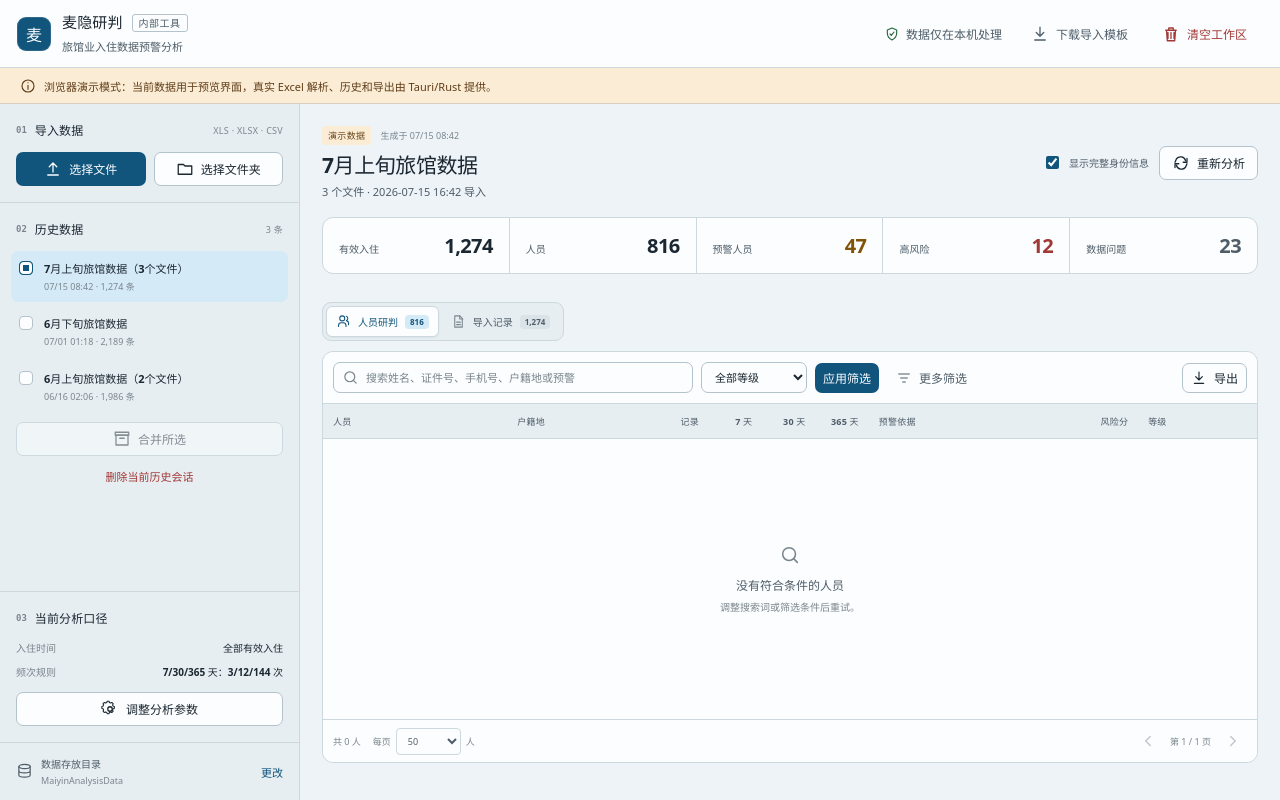
Scenario: App › changes page sizes and keeps frequency columns compact
Expected: the heading "7月上旬旅馆数据" is shown, [322, 152, 486, 178]
Select "100" in the dropdown named "人员每页数量" at [428, 741], box [396, 728, 461, 755]
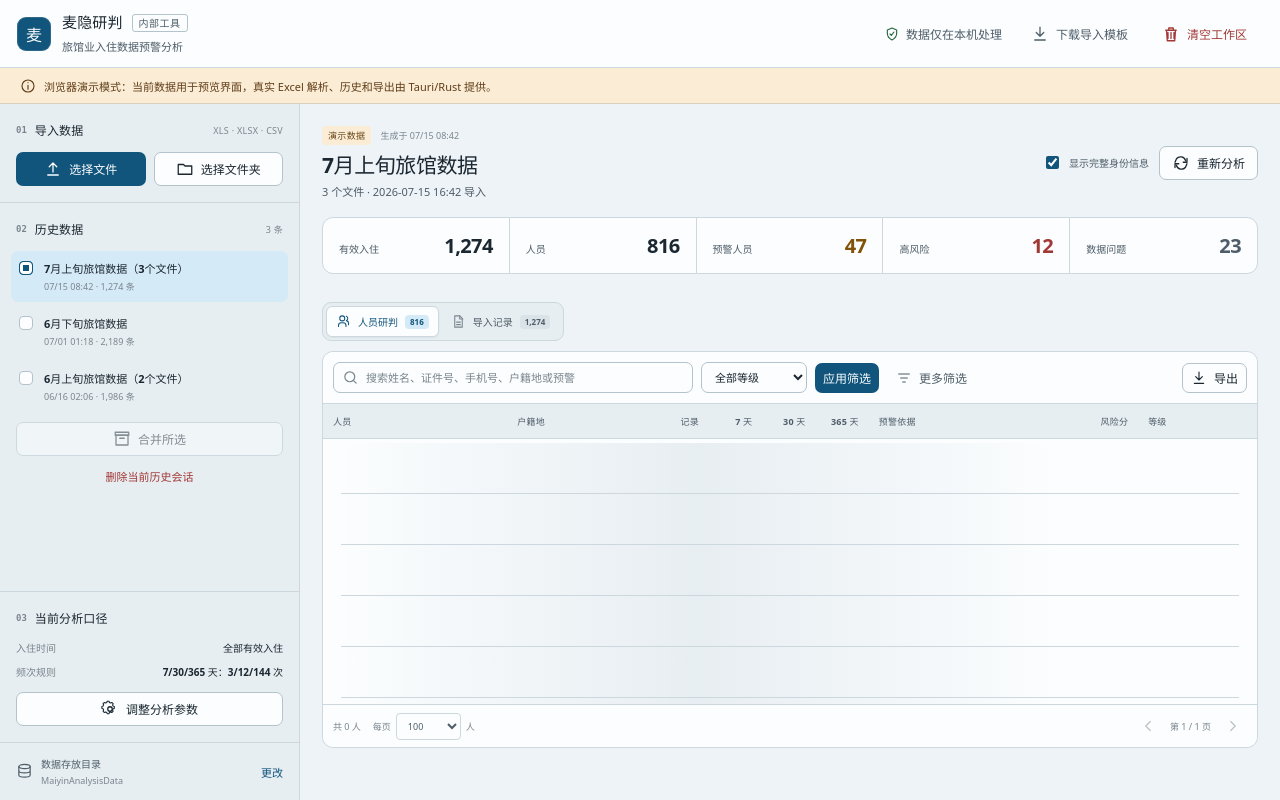
Click the tab "导入记录 1,274" at [500, 322], box [441, 306, 560, 337]
(page scrolled)
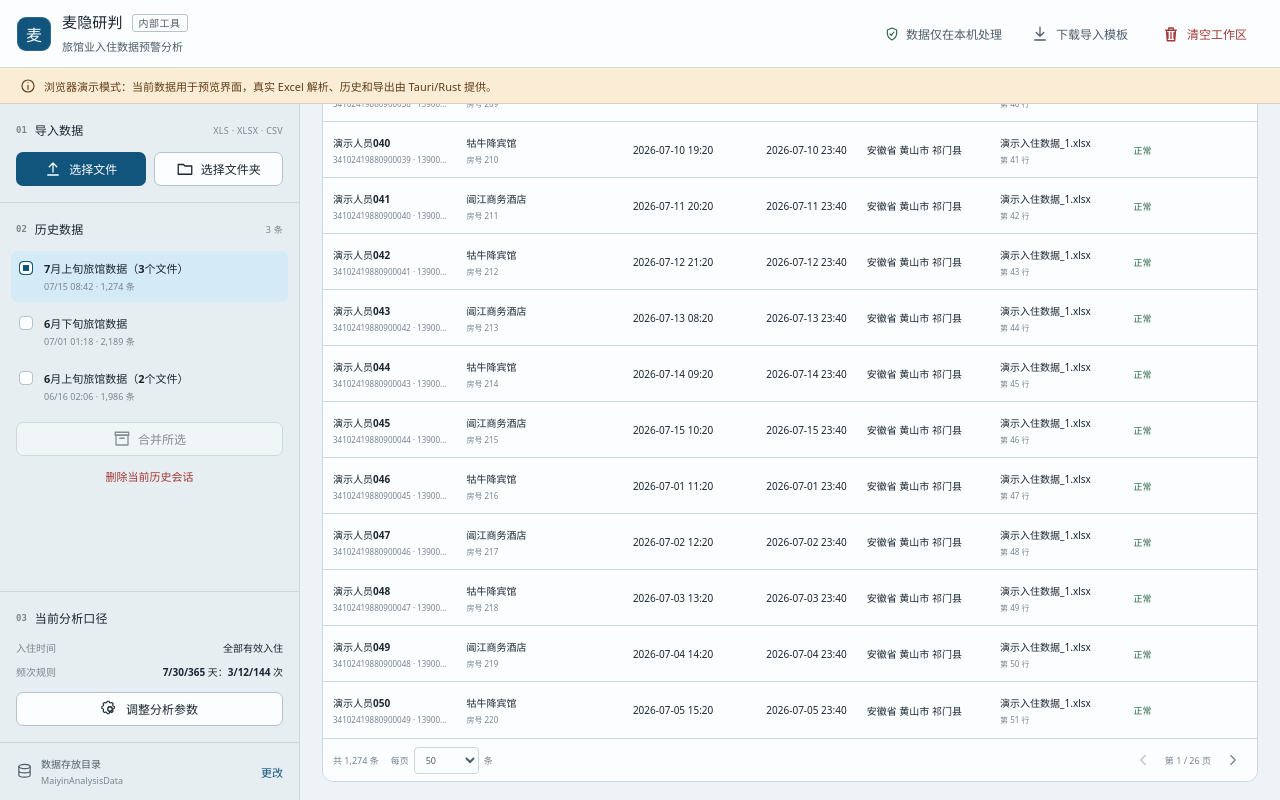
Select "200" in the dropdown named "导入记录每页数量" at [446, 760], box [414, 747, 479, 774]
(page scrolled)
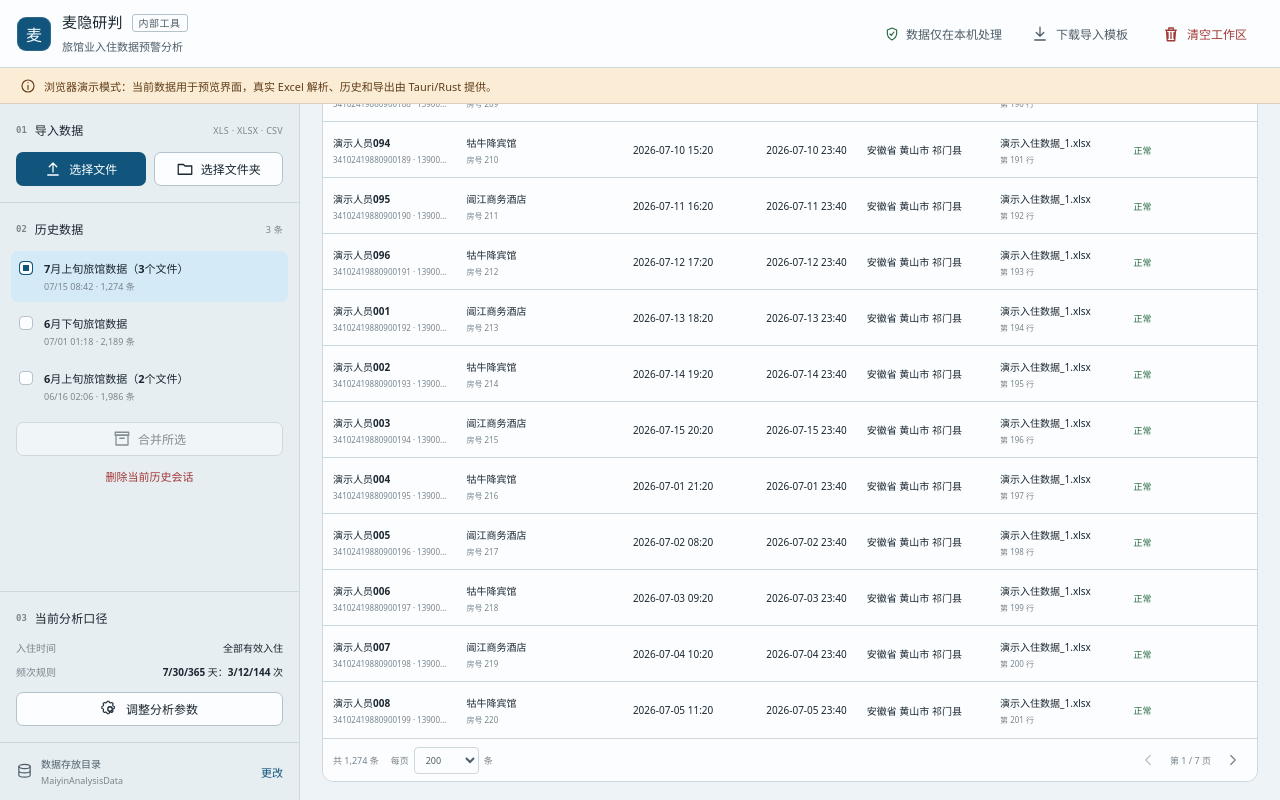
Expected: the text "第 1 / 7 页" is shown, [1170, 754, 1211, 767]
